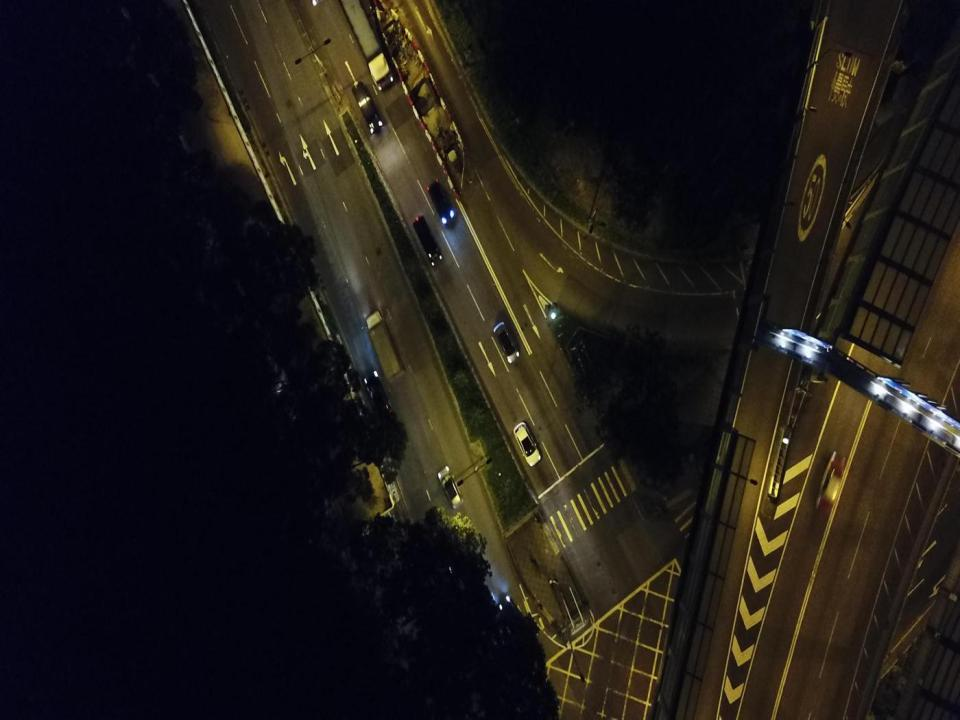car: (814, 451, 846, 518), (412, 214, 442, 267), (364, 371, 394, 422), (426, 178, 455, 225), (513, 421, 542, 467), (493, 320, 520, 364), (437, 464, 463, 509)
truck: (338, 0, 393, 90), (366, 309, 406, 386)
van: (351, 80, 383, 136)
